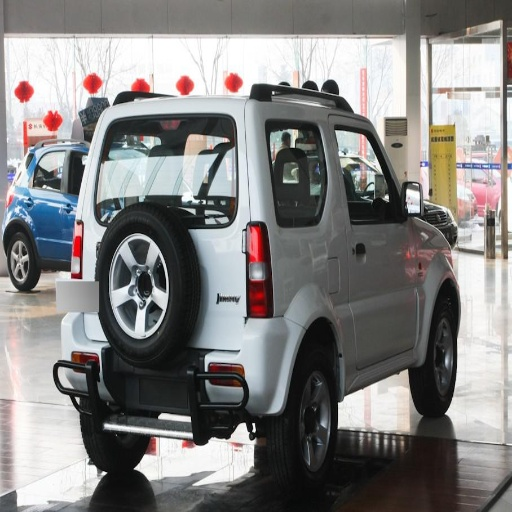back_bumper: (172, 319, 300, 417)
back_right_door: (267, 117, 373, 319)
trunk: (75, 176, 145, 250), (192, 224, 247, 303)
